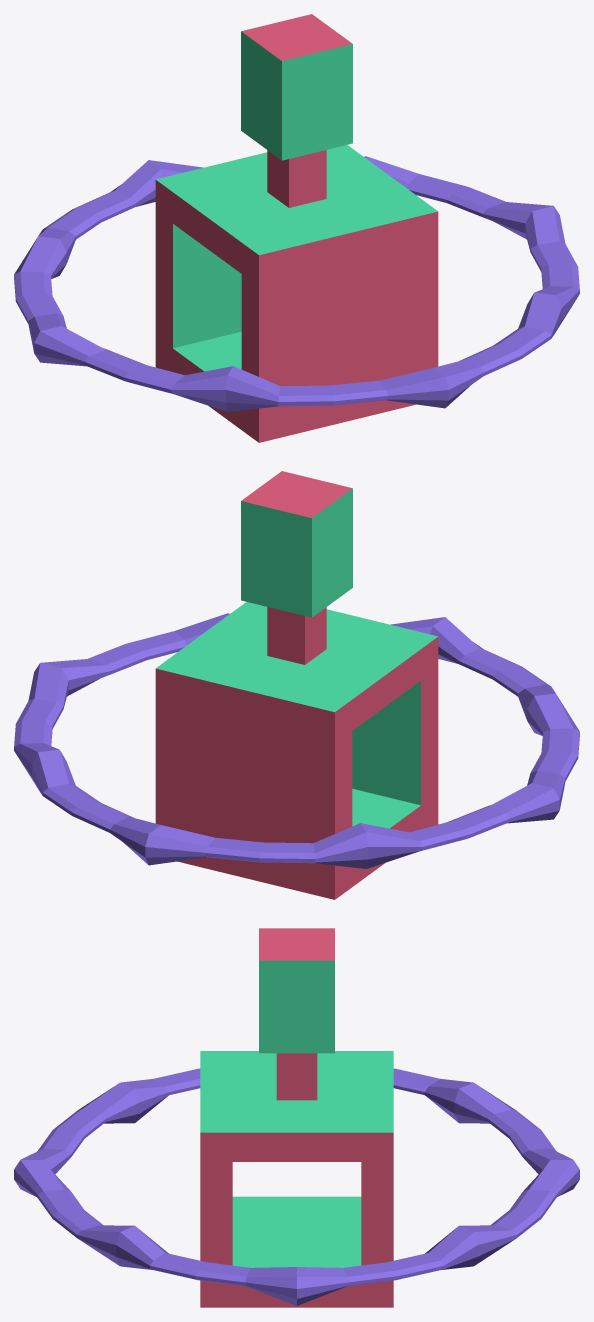
The model's file is odd_cube.glb.
3 renders of one model, top to bottom at view 1: azimuth 30°, elevation 25°; view 2: azimuth 150°, elevation 25°; view 3: azimuth 270°, elevation 25°, orthographic. The views are drawn at different scales.
Parts seen in each view (by area): view 1: Cube; view 2: Cube; view 3: Cube.
Boxes of the visible parts, x1,y1,x2,y2 form: Cube: (14,14,579,442); Cube: (14,471,579,899); Cube: (14,928,579,1307).
Bounding box in the file's own units: 5.86 × 3.68 × 5.86.
